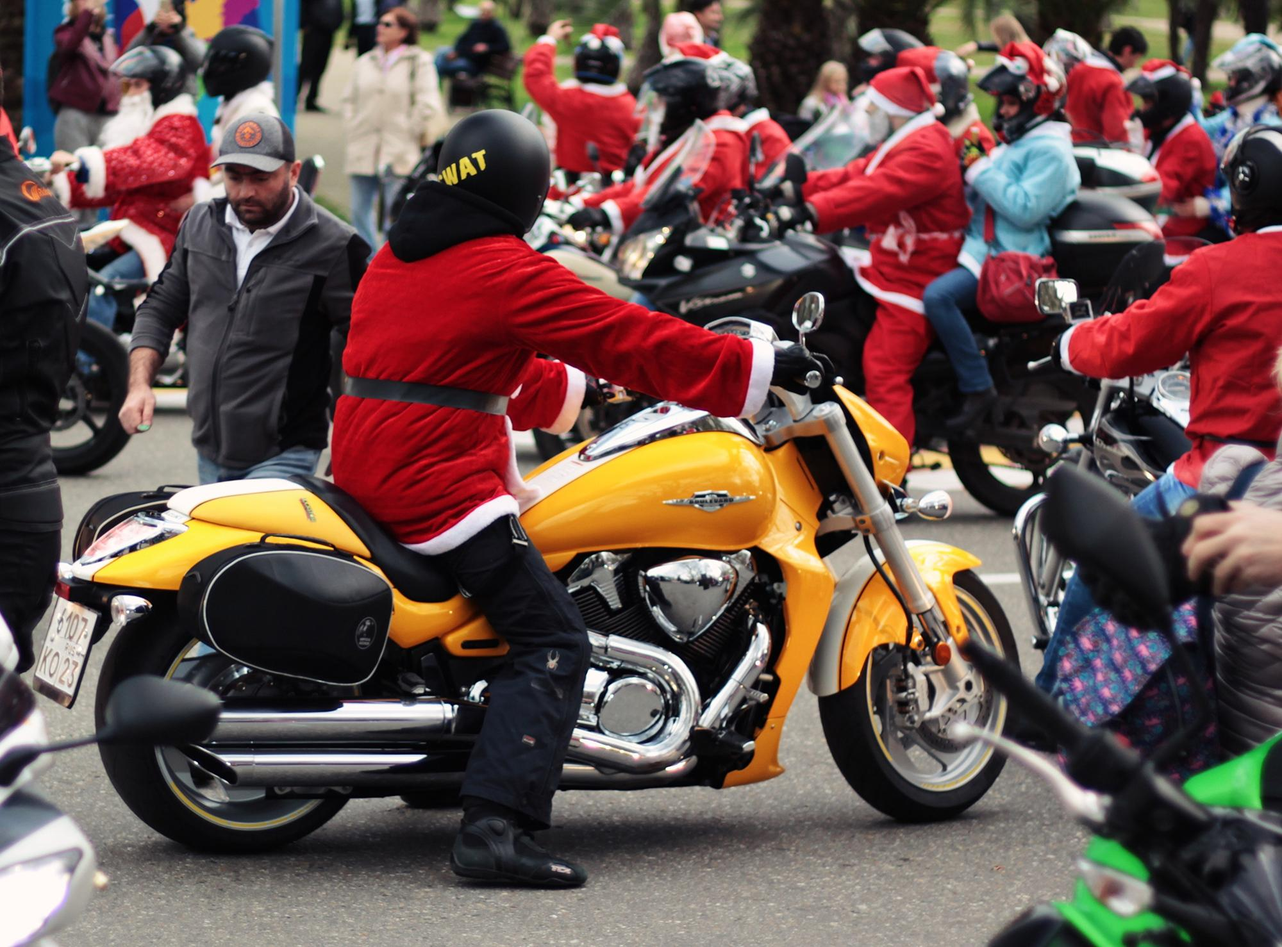helmet: (436, 107, 552, 236)
nohelmet: (208, 110, 303, 228)
